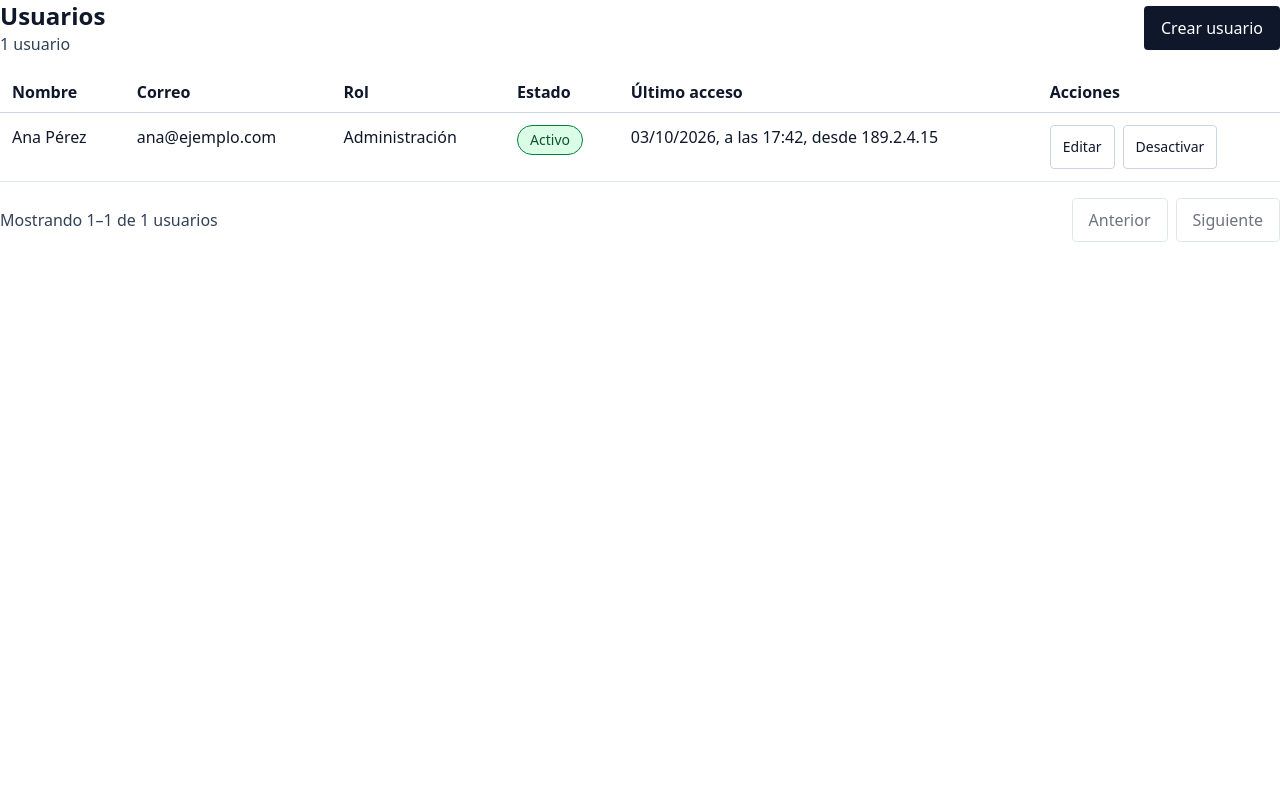
UsersPage · activar/desactivar › desactivar pide confirmación, explica que los datos se conservan y refleja el estado
Click the button "Desactivar" at (1170, 147), box [1122,125,1217,169]
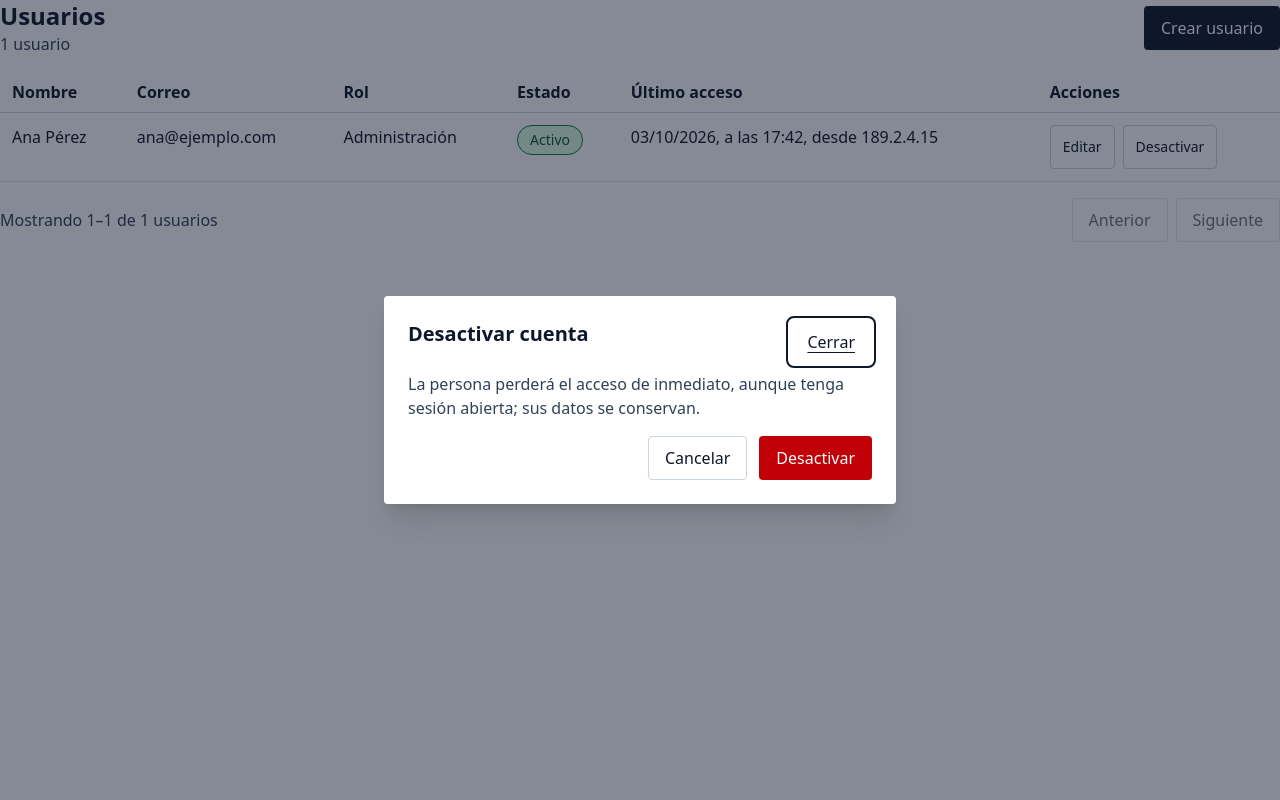
expect the dialog "Desactivar cuenta" shows "sus datos se conservan": met, box [408,373,844,419]
Click the button "Desactivar" at (816, 458), box [759,436,872,480]
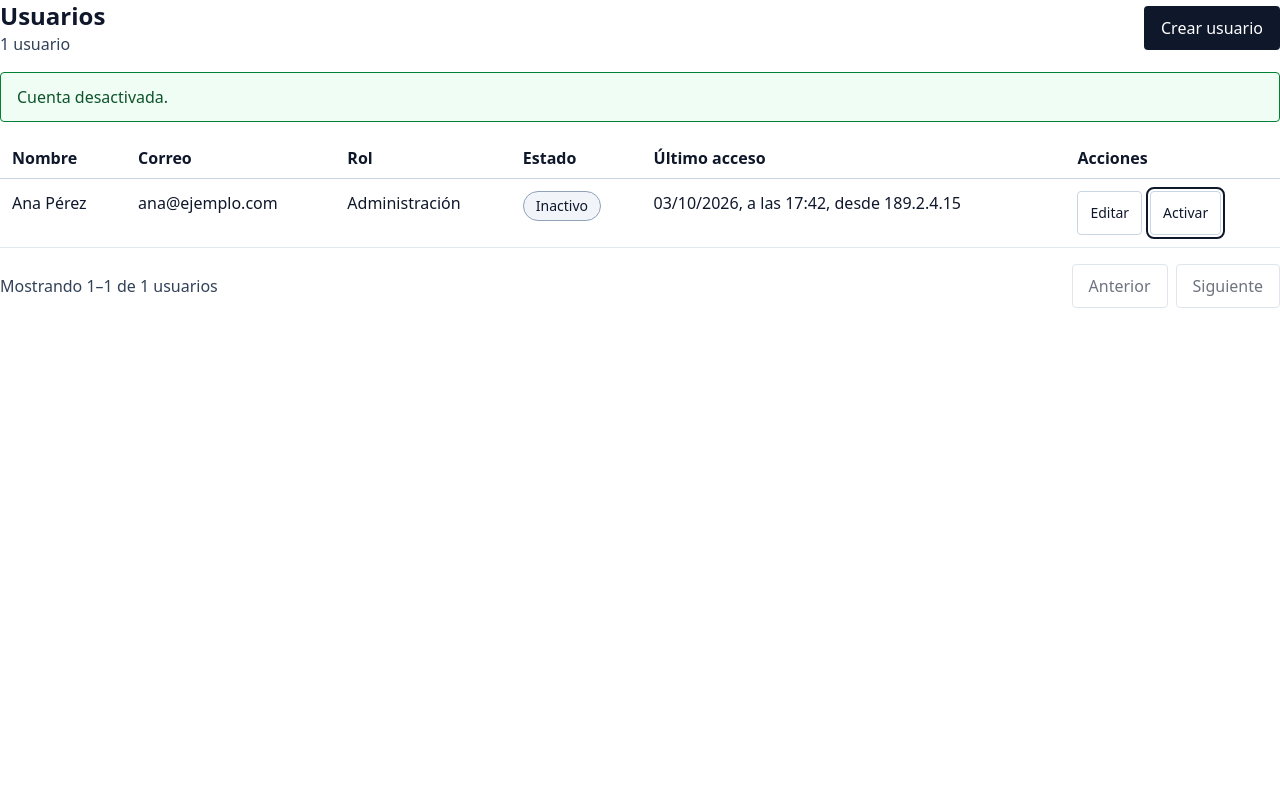
expect the text "Cuenta desactivada." is shown: met, box [0,72,1279,122]
expect the text "Inactivo" is shown: met, box [523,191,601,221]
